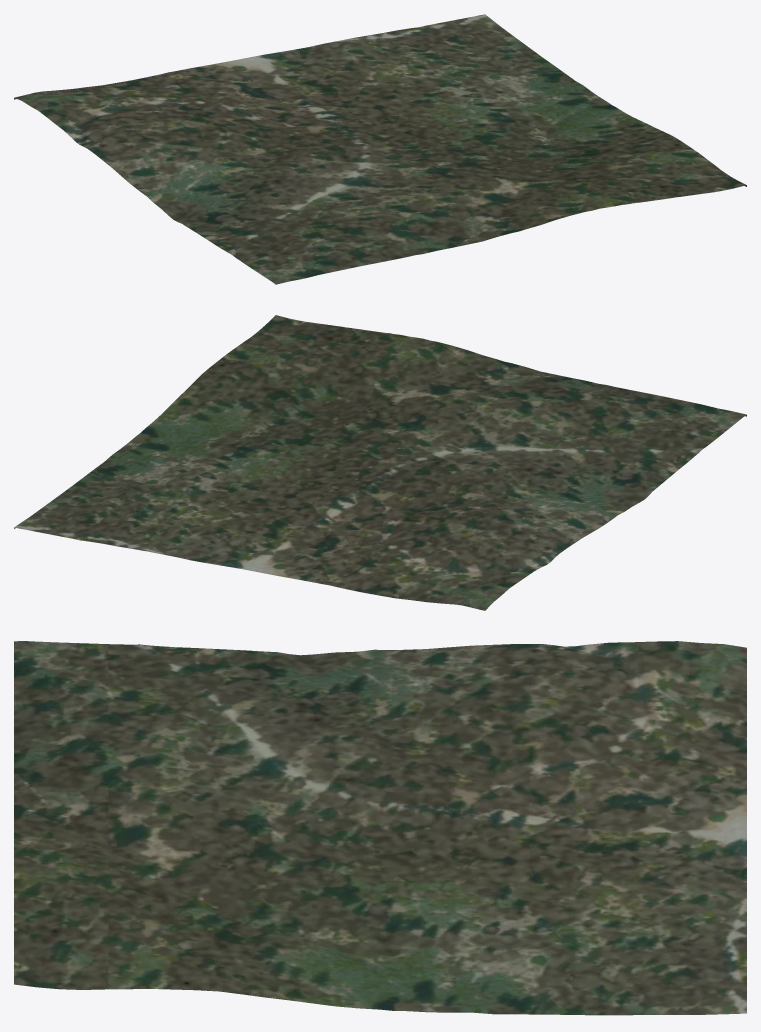
3 renders of one model, top to bottom at view 1: azimuth 30°, elevation 25°; view 2: azimuth 150°, elevation 25°; view 3: azimuth 270°, elevation 25°, orthographic. The views are drawn at different scales.
Bounding box in the file's own units: 250 × 20.65 × 241.
Materials: 1 (1 with a texture image).
